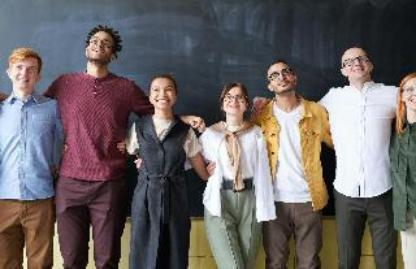person: (46, 18, 135, 269), (322, 44, 397, 269), (256, 57, 329, 269), (126, 66, 199, 269), (0, 44, 63, 269), (196, 75, 263, 269)
